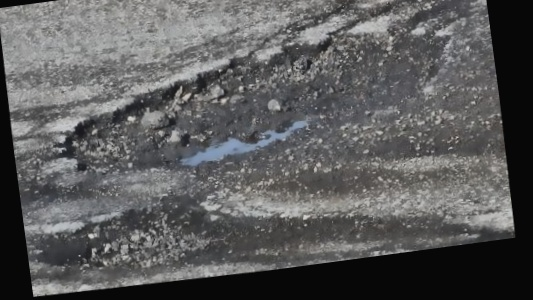pothole: (49, 11, 462, 190), (57, 193, 222, 283)
